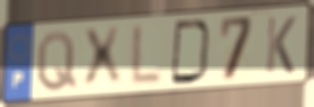7: (218, 14, 257, 84)
D: (169, 18, 214, 87)
K: (264, 14, 298, 76)
L: (128, 22, 166, 89)
Q: (35, 29, 79, 94)
X: (80, 24, 124, 92)
